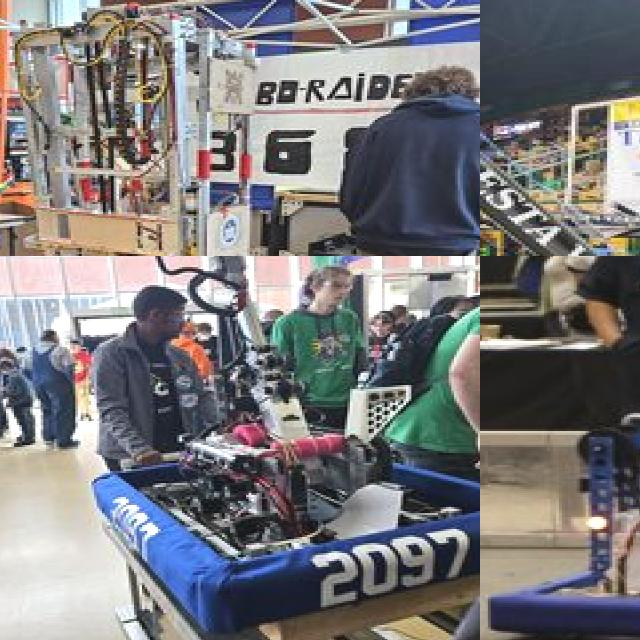FRC-Robots: (0, 256, 480, 609), (0, 0, 358, 256), (487, 370, 640, 640), (480, 40, 640, 256)
